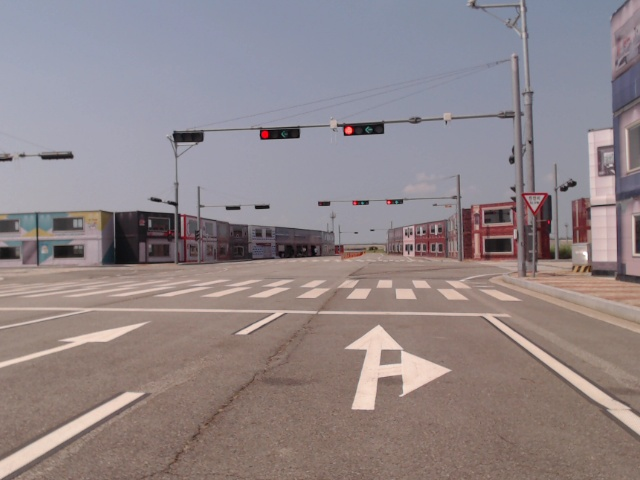left_green_4: (343, 125, 384, 135), (260, 130, 299, 139)
